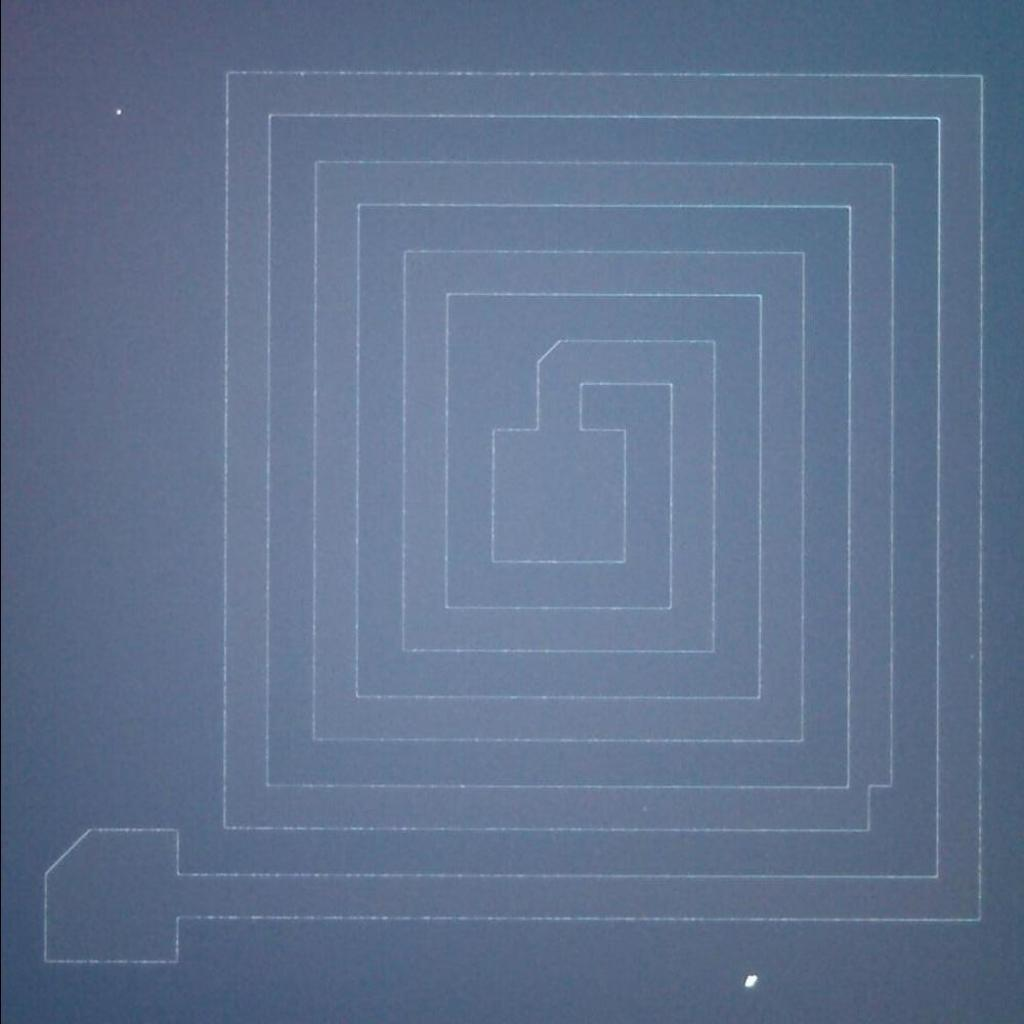dot: (105, 93, 135, 127)
edge circuit: (24, 815, 106, 883), (857, 768, 901, 839), (521, 330, 576, 376)
spot: (733, 964, 770, 998)
